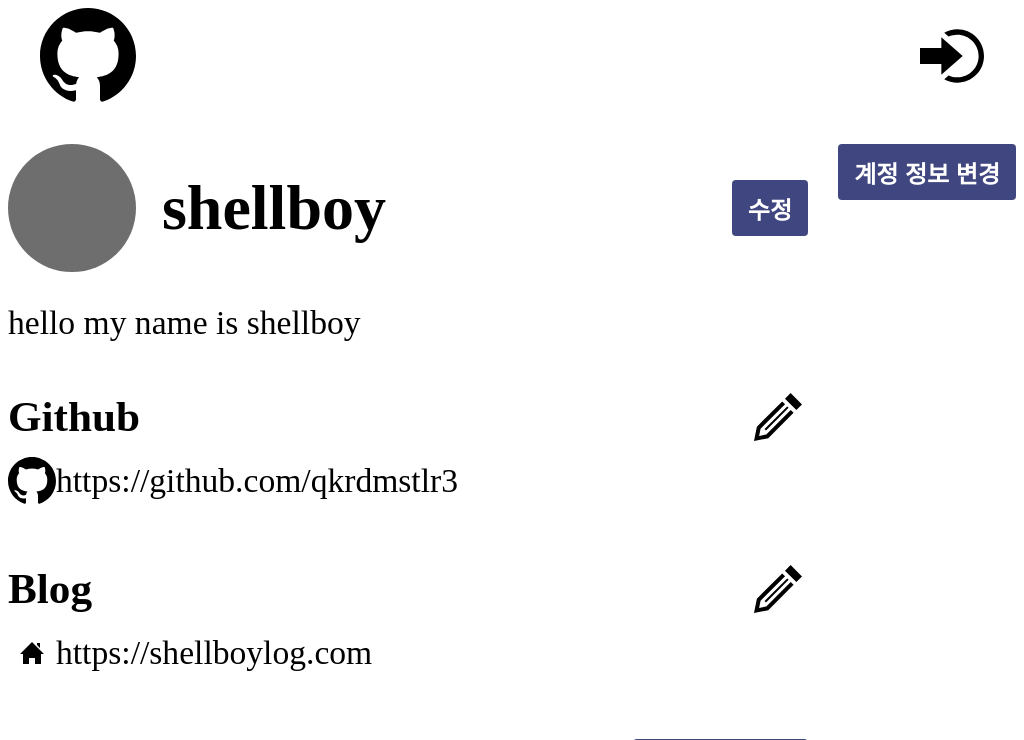
Test case: <Profile> 페이지 › blog url기능 › 수정 아이콘 클릭 시 전환
This screenshot has width=1024, height=740.
Click the button named "home-pencil" in the row of "Blog" at {"x": 778, "y": 588}, box [748,564,808,614]
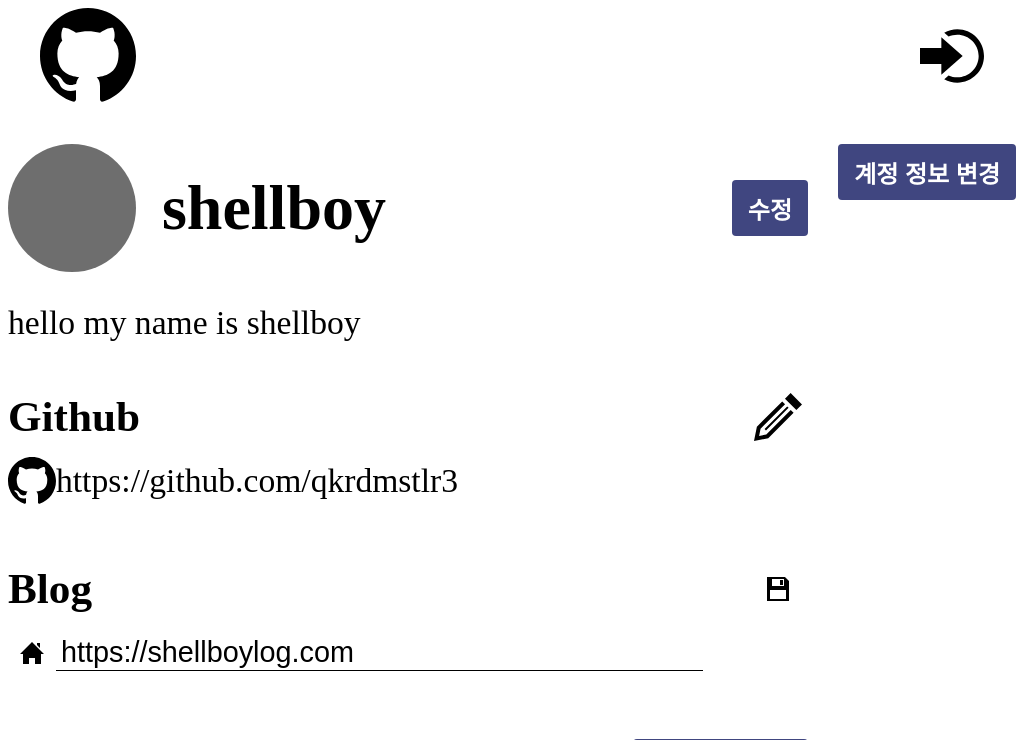
Result: the field named "blog-input" holds "https://shellboylog.com" at [56,635,703,671]
